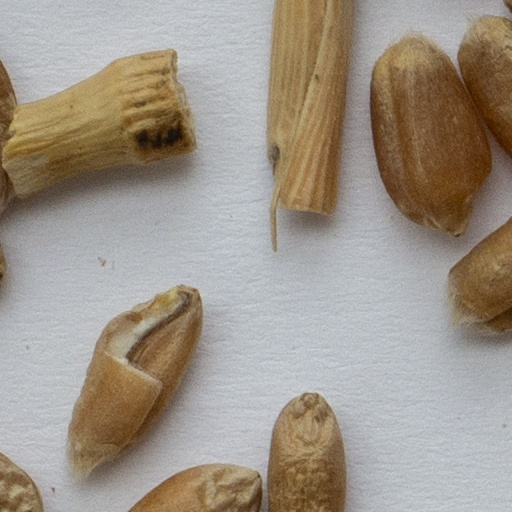Peel-poly: (3, 50, 192, 194), (268, 0, 352, 251)
